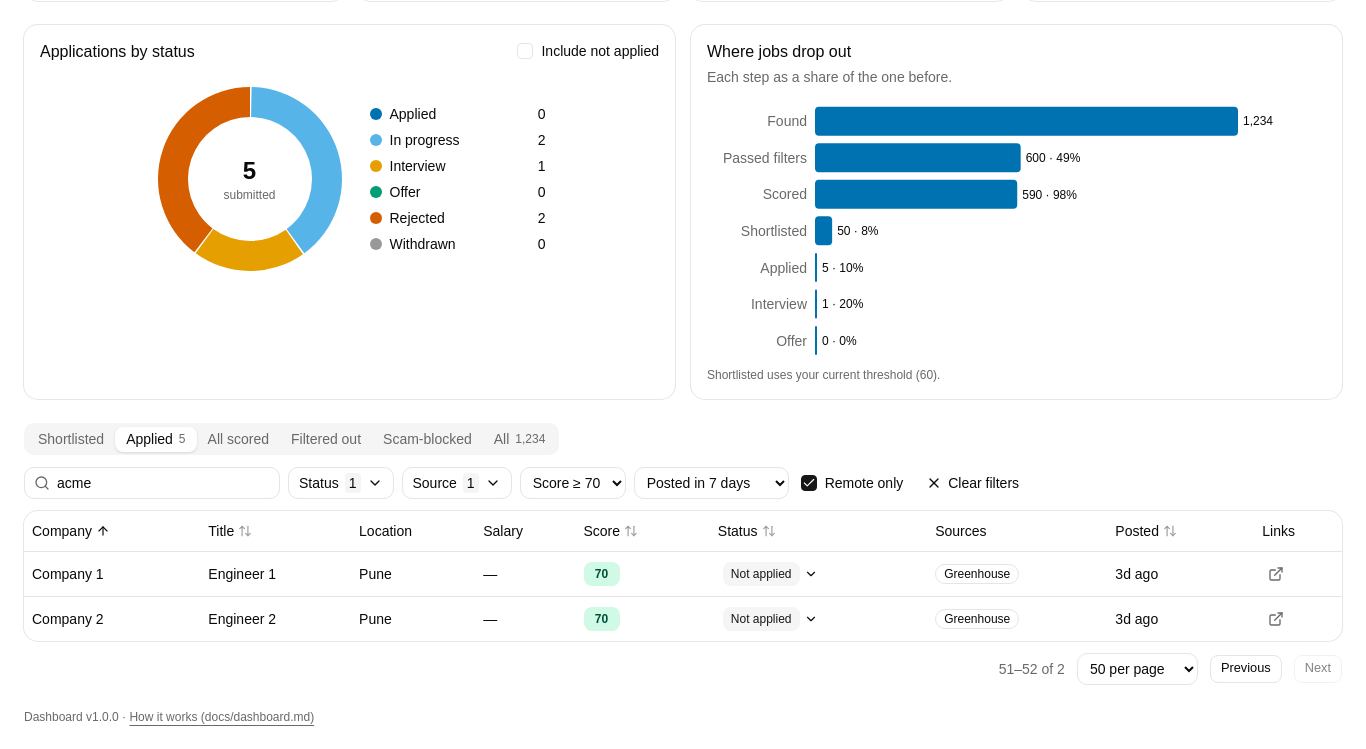
Test: JobsFilters › clears every filter but keeps the tab and sort
(page scrolled)
Expected: the table is shown, [24, 511, 1342, 640]
Click the button "Clear filters" at [973, 483], box [915, 467, 1030, 499]
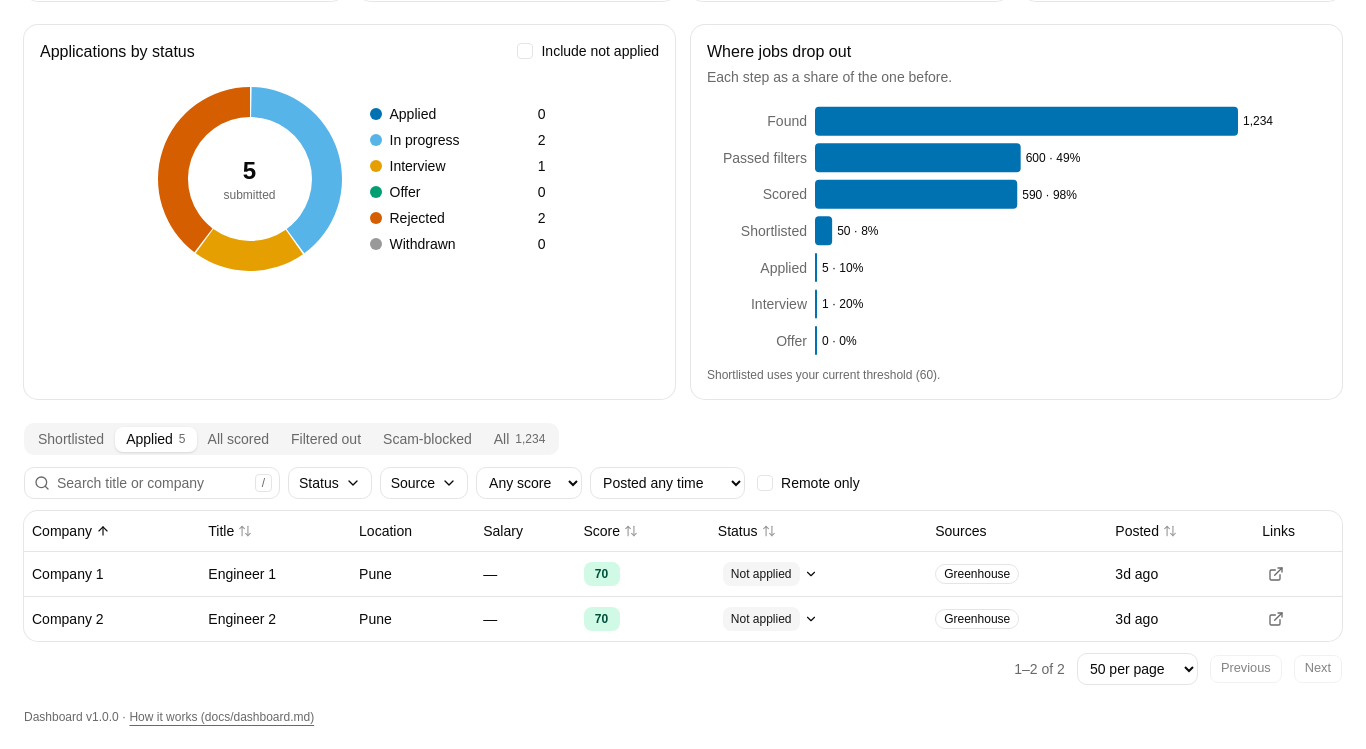
Now the search field labelled "Search title or company" is empty, box [24, 467, 280, 499]
Now the button "Clear filters" is gone
